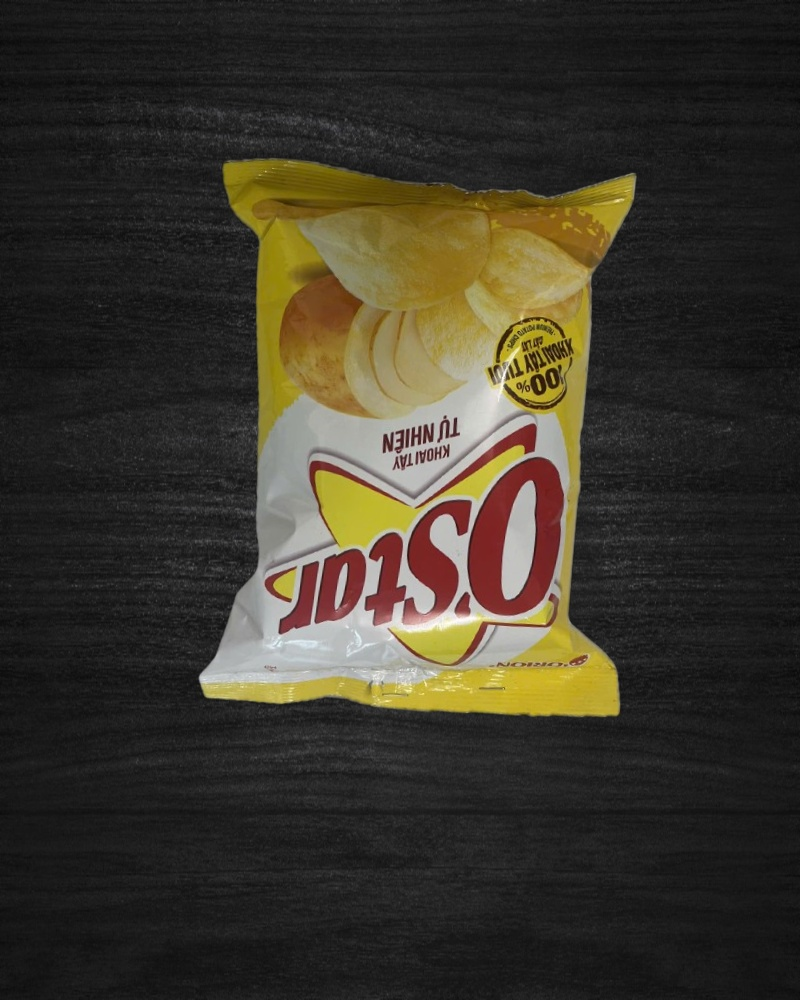Snack cua: (182, 144, 665, 728)
